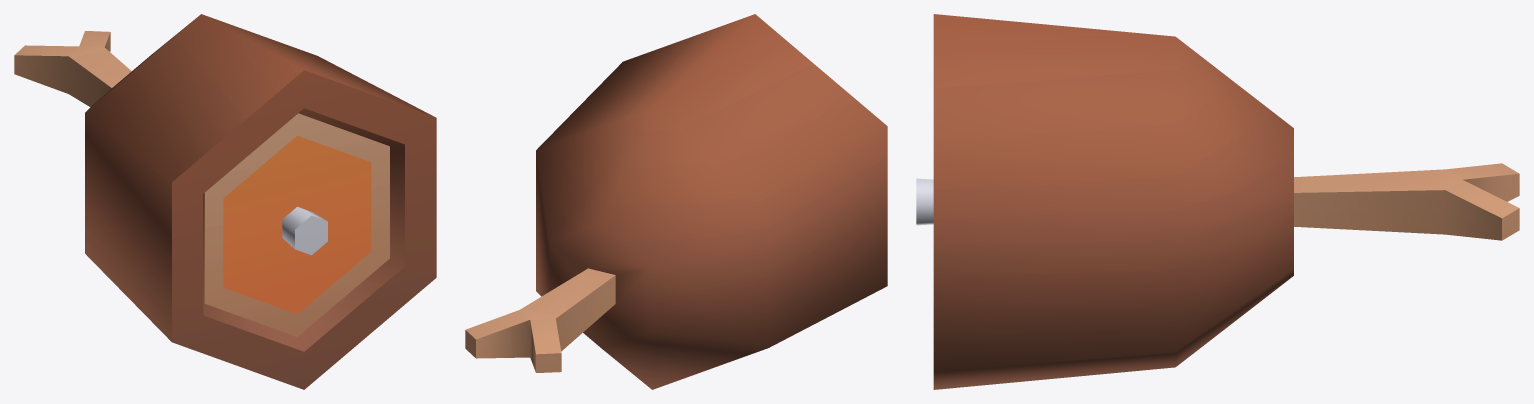
File: food.whole_ham.glb
The picture shows the model from 3 angles, left to right: view 1: azimuth 30°, elevation 25°; view 2: azimuth 150°, elevation 25°; view 3: azimuth 270°, elevation 25°; orthographic projection. The views are drawn at different scales.
Parts seen in each view (by area): view 1: whole-ham; view 2: whole-ham; view 3: whole-ham.
Part boxes in pixels (x1,y1,x2,y2): whole-ham: (14, 14, 436, 389); whole-ham: (465, 14, 887, 389); whole-ham: (916, 14, 1519, 389).
Bounding box in the file's own units: 0.1132 × 0.1307 × 0.19.
Materials: 1 (1 with a texture image).
